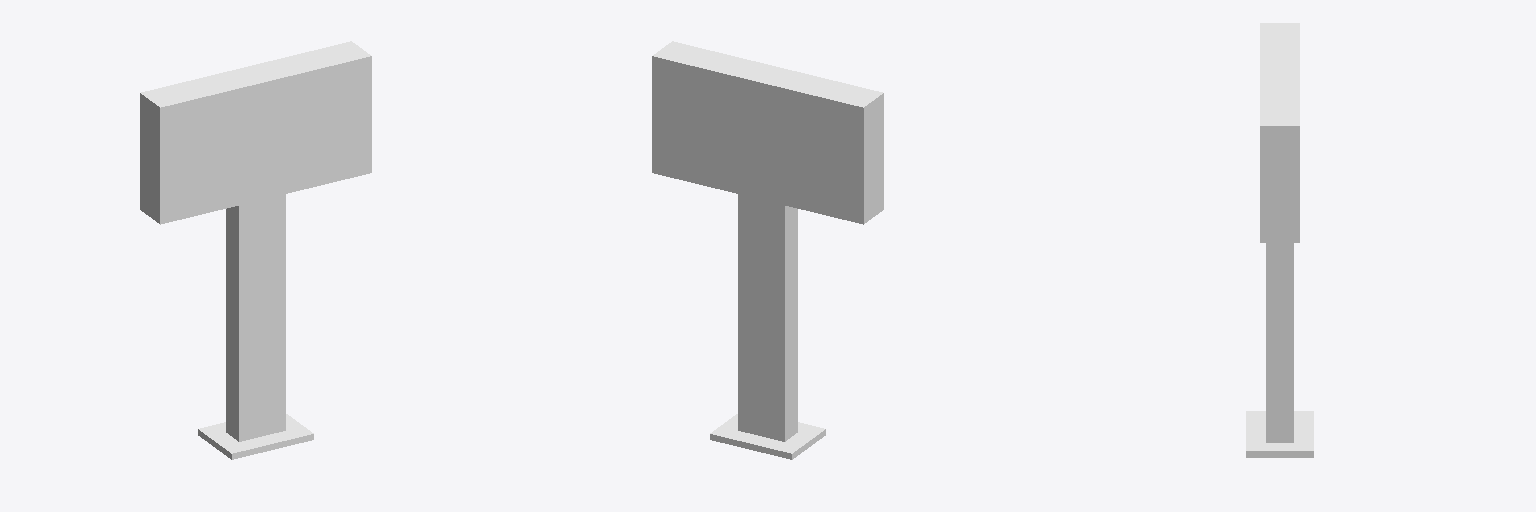
File: letrero.obj
The picture shows the model from 3 angles: view 1: azimuth 30°, elevation 25°; view 2: azimuth 150°, elevation 25°; view 3: azimuth 270°, elevation 25°; orthographic projection.
Parts seen in each view (by area): view 1: object 1; view 2: object 1; view 3: object 1.
Part boxes in pixels (x1,y1,x2,y2): object 1: (140, 41, 371, 459); object 1: (652, 41, 883, 459); object 1: (1246, 23, 1313, 457).
Bounding box in the file's own units: 3.6 × 5.9 × 1.